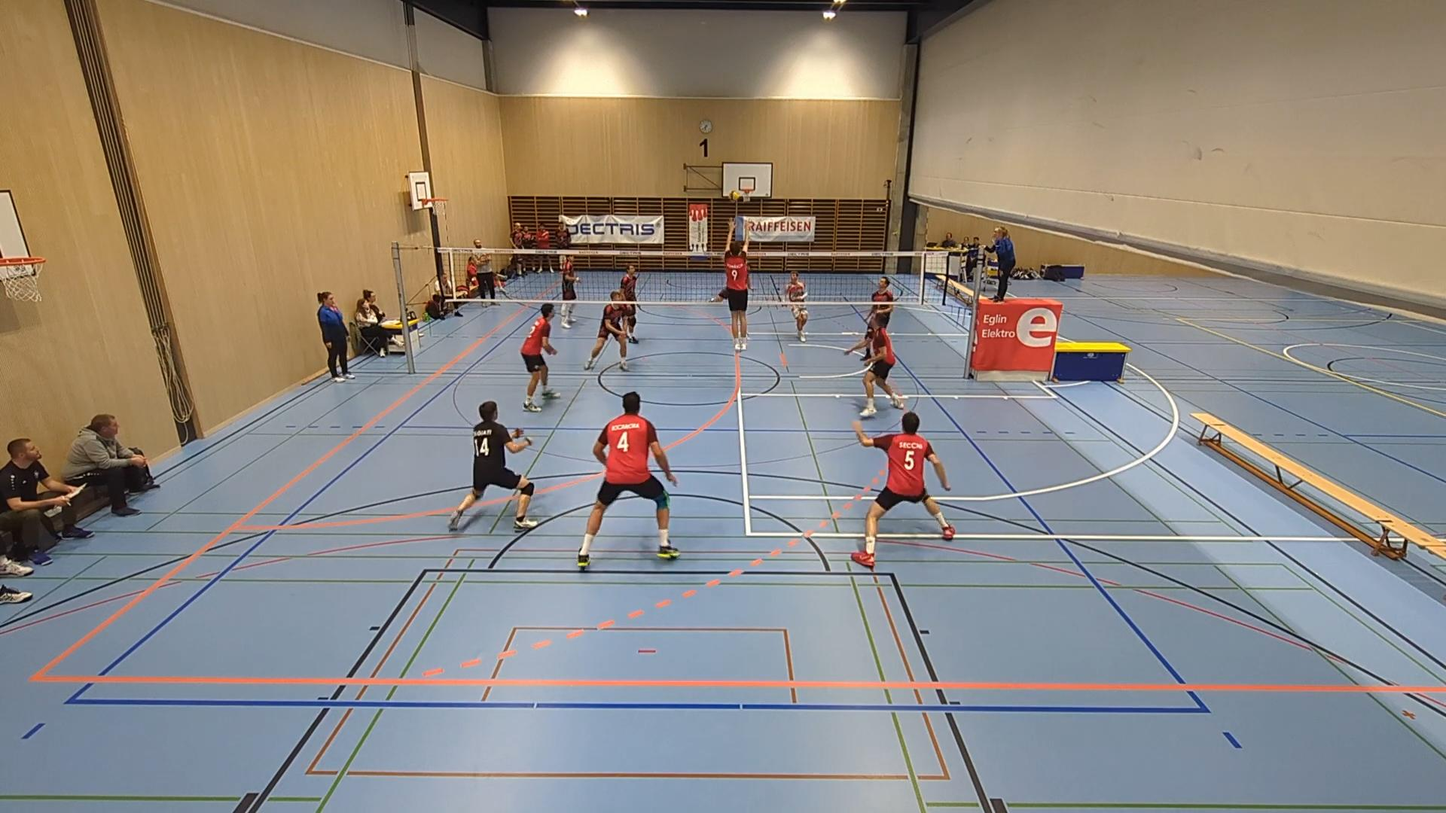muro: (714, 215, 759, 351)
